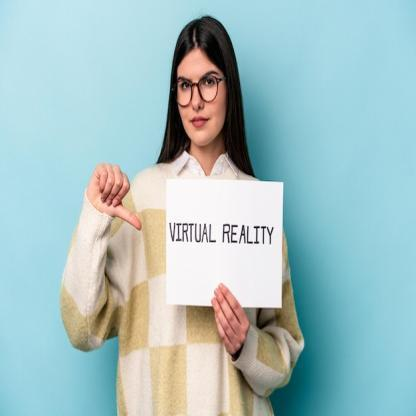thumb_down: (83, 158, 144, 236)
